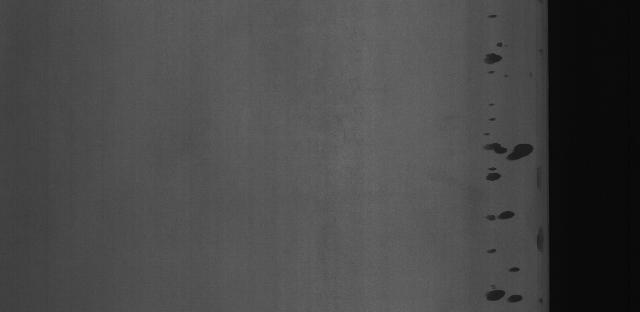oil_spot: (481, 129, 538, 168), (475, 283, 530, 312), (482, 38, 513, 72), (477, 164, 508, 187), (477, 207, 517, 224), (533, 221, 544, 247), (482, 241, 501, 255), (504, 263, 520, 275)
